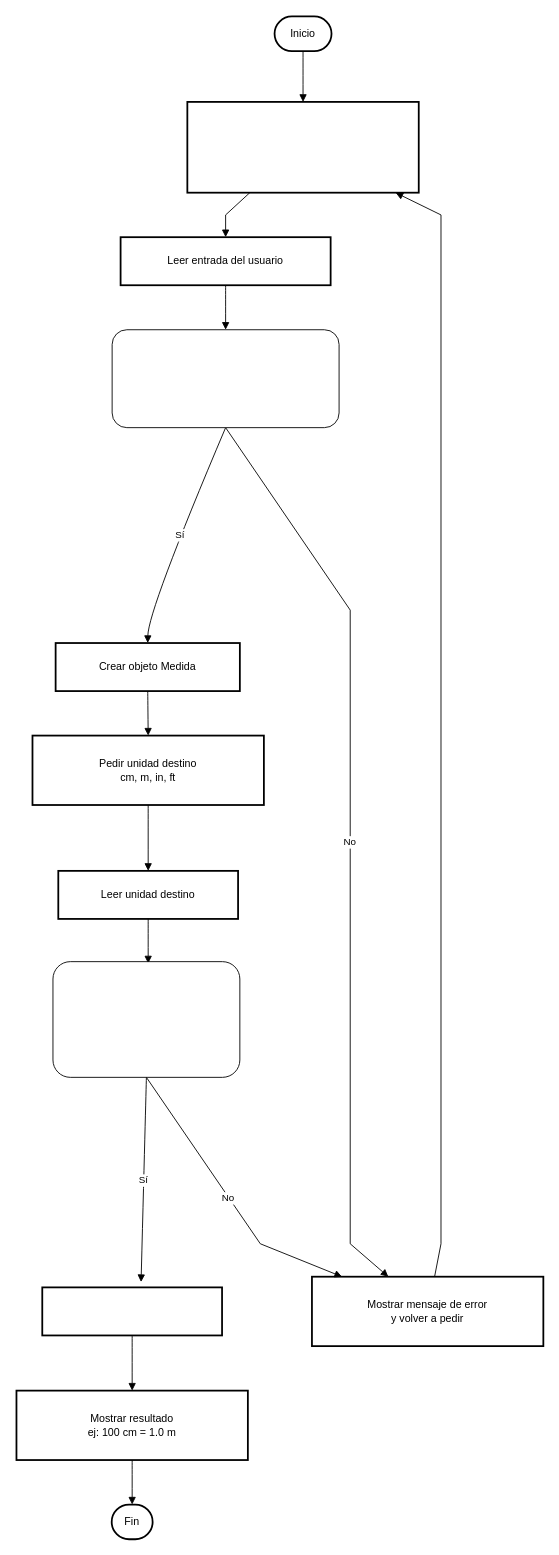
Some shapes in this 559 by 1555 pixel diagram are drawn without their labels. Each missing label, with the centre of its shape:
"Convertir la medida" belongs at [131,1311].
"Mostrar mensaje y pedir medida ej: 100 cm o solo 100" belongs at [302,147].
"¿La entrada tiene formato correcto y unidad válida?" belongs at [225,378].
"¿La unidad destino es válida?" belongs at [146,1019].
